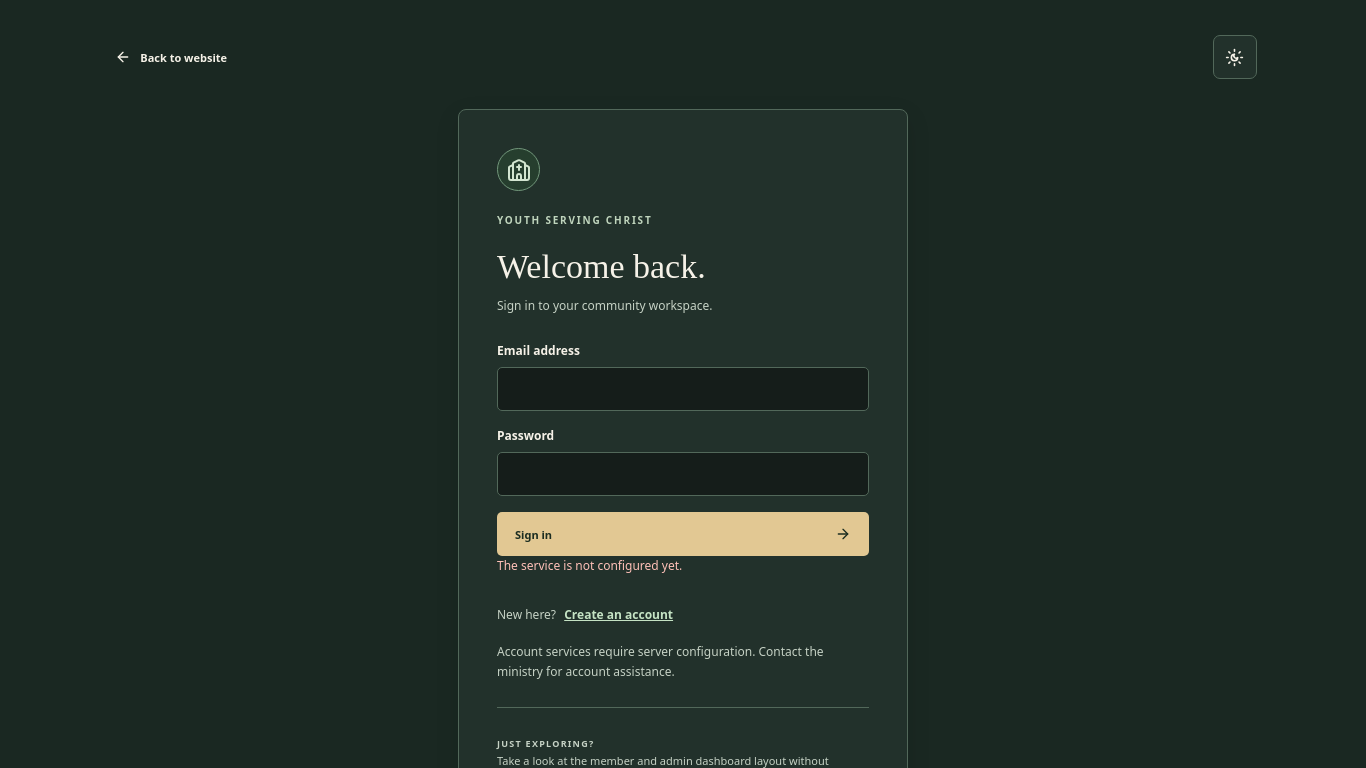
Test: header and draft policy review › links the registration form to the draft without asserting acceptance
This screenshot has width=1366, height=768.
Click the button "Create an account": [619, 615] box left=559, top=600, right=678, bottom=630
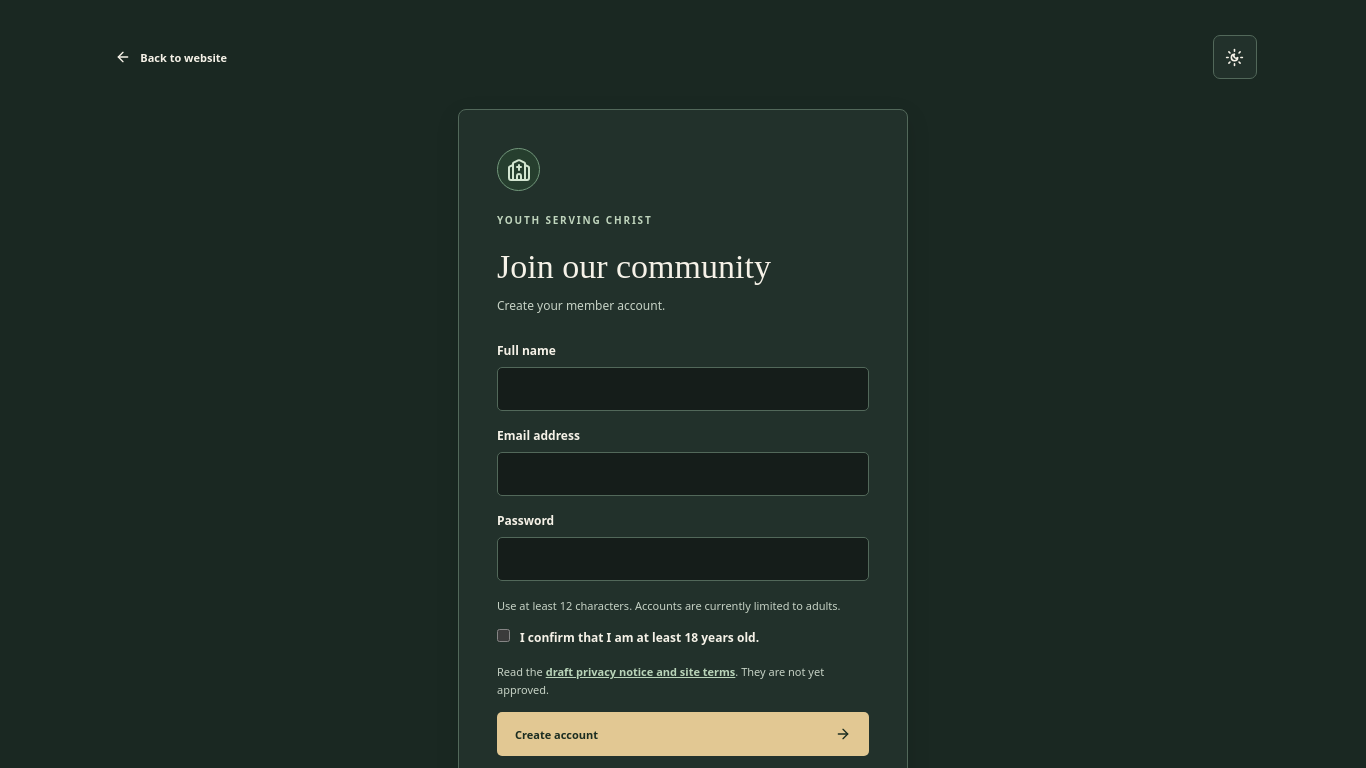
Expected: the text "They are not yet approved" is shown, left=497, top=664, right=824, bottom=697
